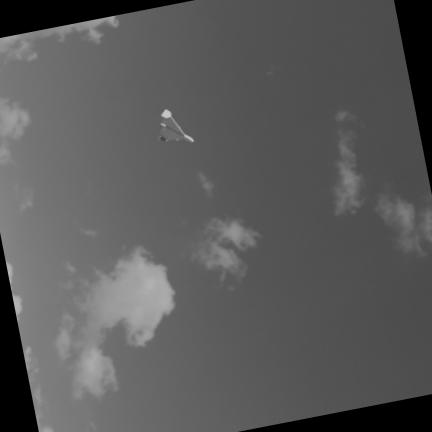Shahed: (158, 110, 193, 142)
